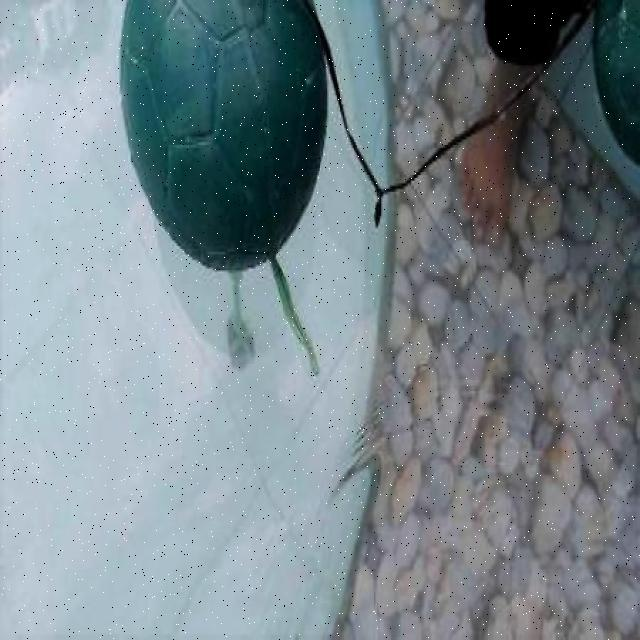buoy: (118, 0, 327, 270)
